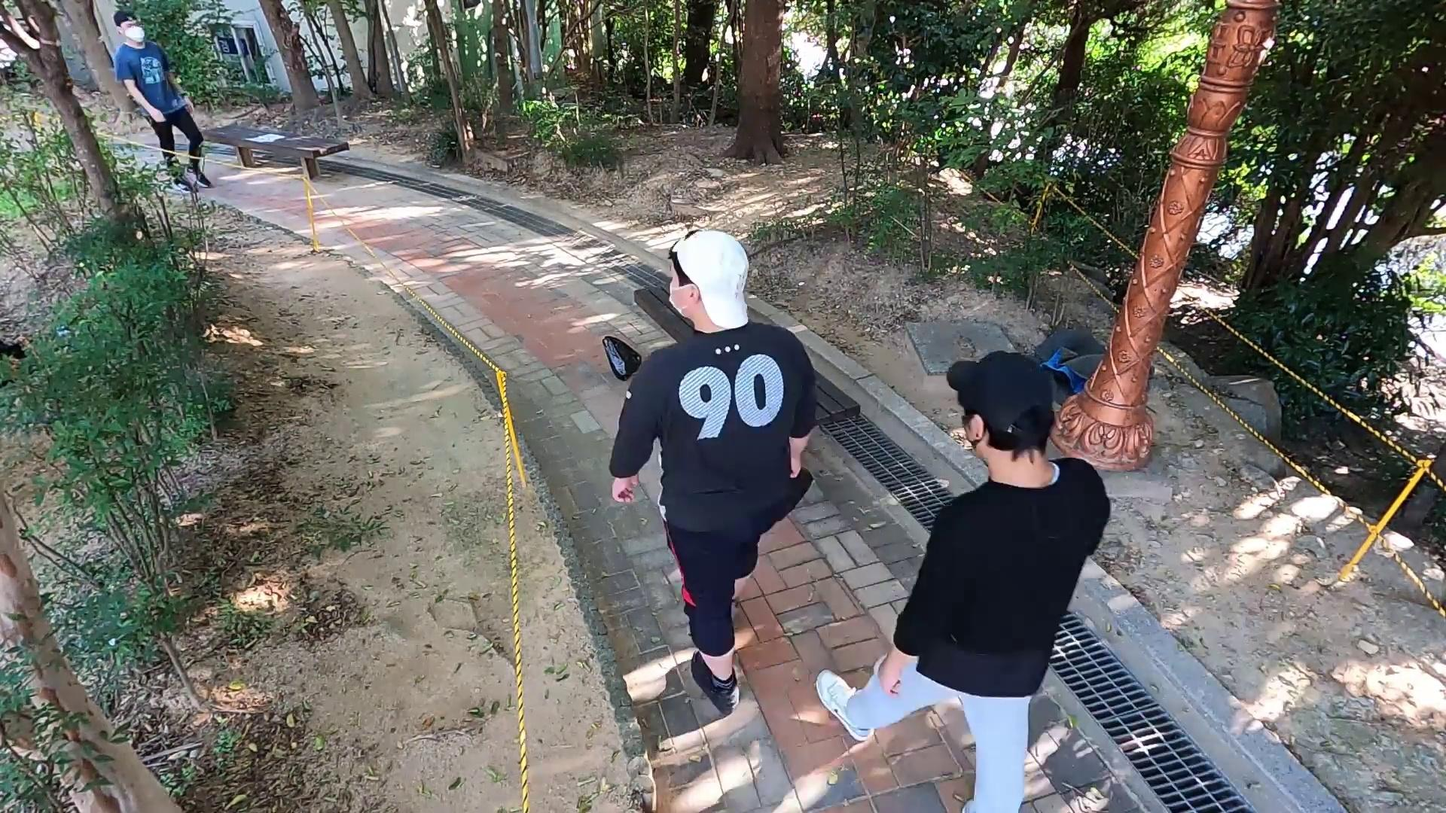person: (815, 354, 1113, 813), (610, 228, 821, 718)
trash: (1033, 324, 1108, 399), (600, 335, 642, 382), (782, 466, 816, 520)
